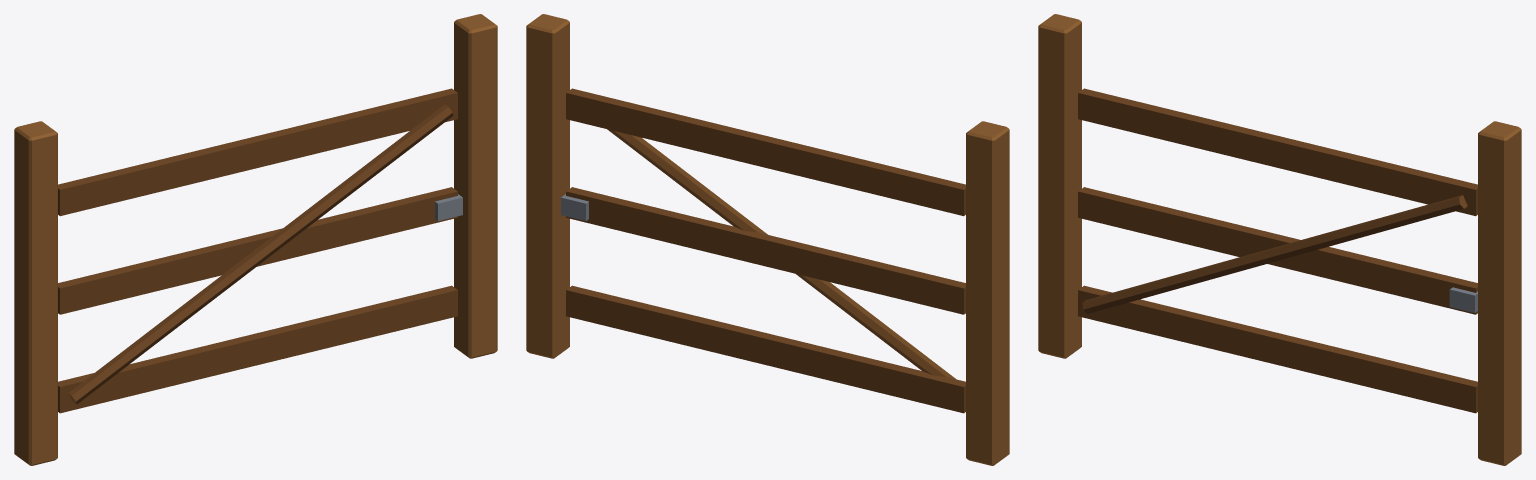
Rendered from gate_2m.glb.
3 renders of one model, left to right at view 1: azimuth 30°, elevation 25°; view 2: azimuth 150°, elevation 25°; view 3: azimuth 330°, elevation 25°, orthographic.
Visible parts, largest first — view 1: gate_2m; view 2: gate_2m; view 3: gate_2m.
Boxes of the visible parts, <box> form: gate_2m: <box>14,14,497,465</box>; gate_2m: <box>526,14,1009,465</box>; gate_2m: <box>1038,14,1521,465</box>.
Size of the model in its own units: 2.24 by 1.5 by 0.14.
